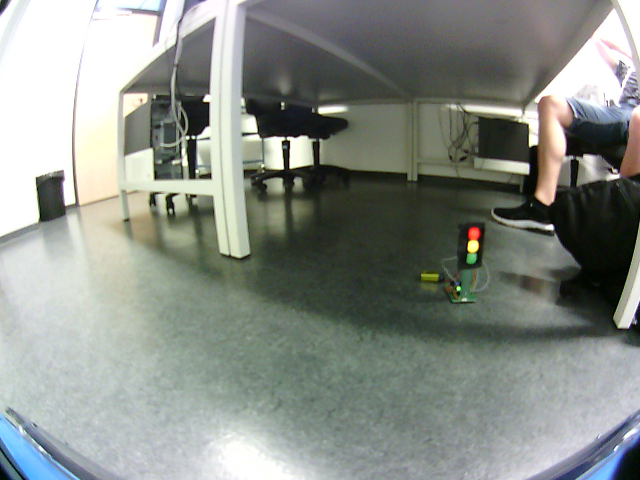red yellow trafficlight: (462, 225, 484, 270)
